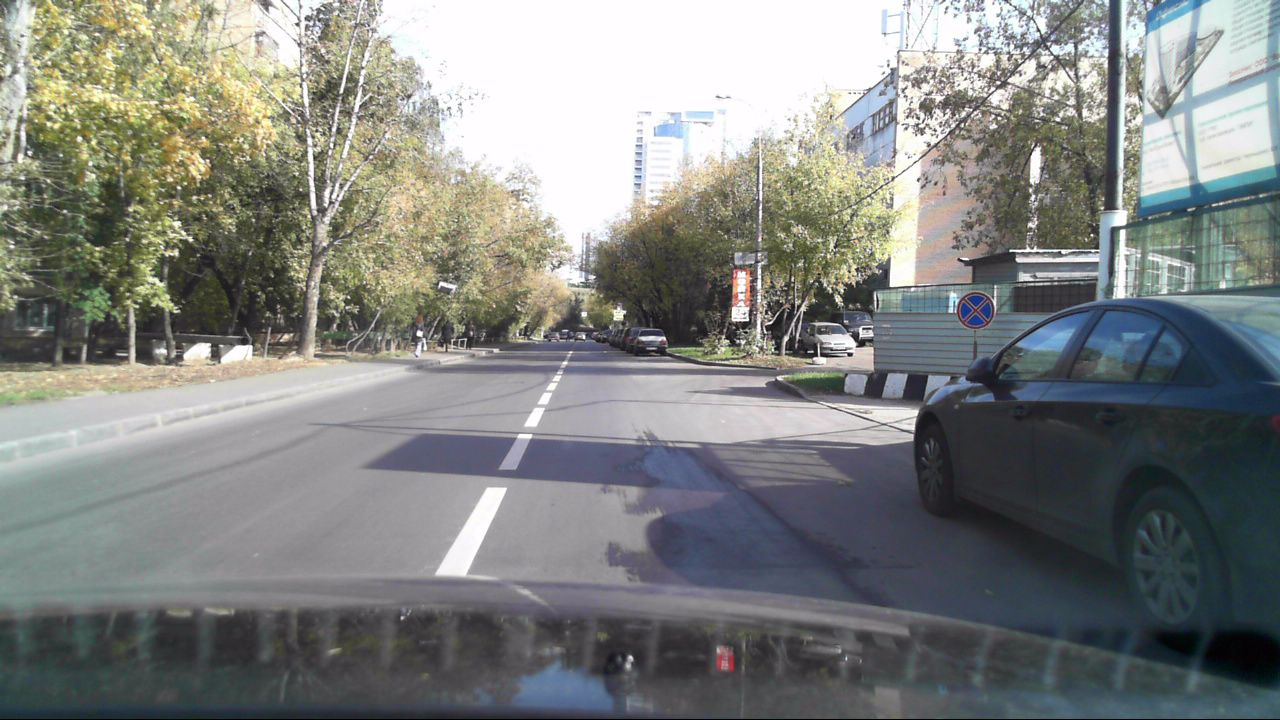No Parking: (957, 290, 996, 332)
